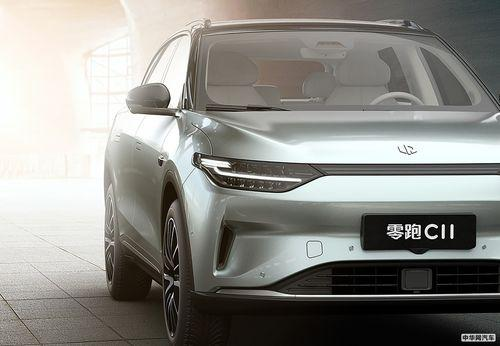LEAPMOTOR: (396, 143, 416, 156)
